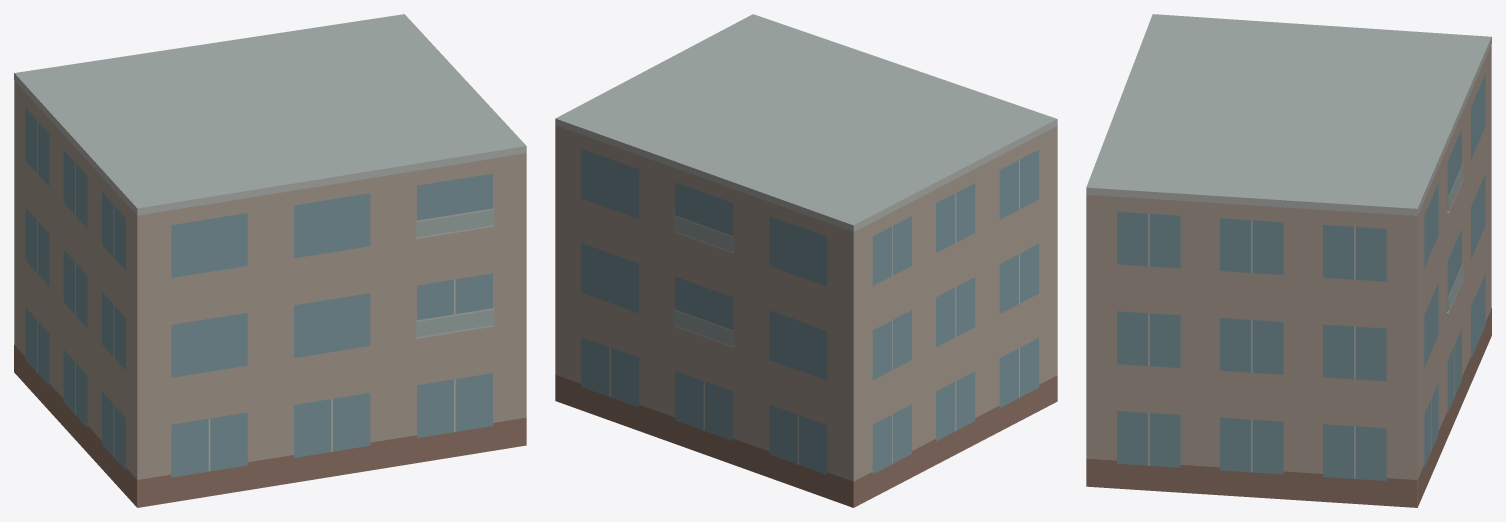
File: survey-upis-32659152.glb
3 views of the same model, side by side, from view 1: azimuth 30°, elevation 25°; view 2: azimuth 150°, elevation 25°; view 3: azimuth 270°, elevation 25° (orthographic). The views are drawn at different scales.
Parts seen in each view (by area): view 1: survey-upis-32659152.tmp; view 2: survey-upis-32659152.tmp; view 3: survey-upis-32659152.tmp.
Boxes of the visible parts, <box> form: survey-upis-32659152.tmp: <box>14,14,526,507</box>; survey-upis-32659152.tmp: <box>555,14,1057,507</box>; survey-upis-32659152.tmp: <box>1086,14,1491,507</box>.
Bounding box in the file's own units: 14.27 × 10.2 × 12.55.
